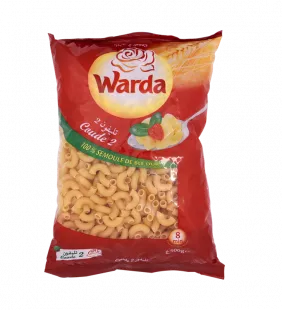LA ROSE BLANCHE: (37, 21, 236, 284)
